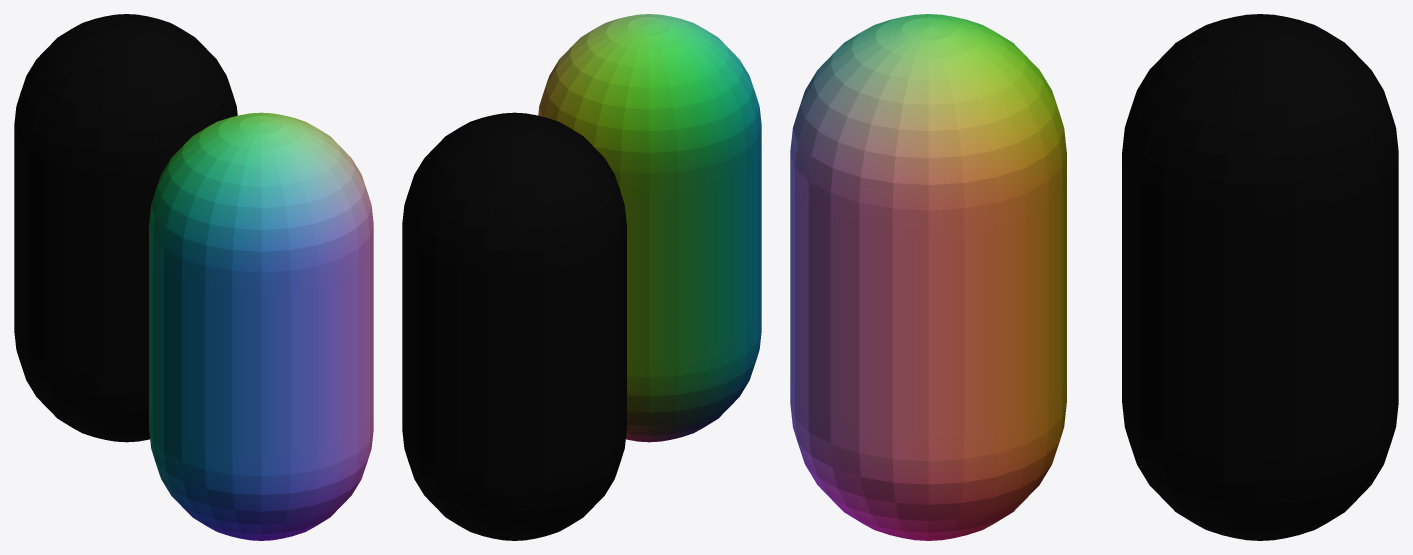
File: SM_Capsules.fbx
The picture shows the model from 3 angles, left to right: view 1: azimuth 30°, elevation 25°; view 2: azimuth 150°, elevation 25°; view 3: azimuth 270°, elevation 25°; orthographic projection. The views are drawn at different scales.
Parts seen in each view (by area): view 1: SM_Capsule2; view 2: SM_Capsule2; view 3: SM_Capsule2.
Boxes of the visible parts, <box> form: SM_Capsule2: <box>14,14,373,540</box>; SM_Capsule2: <box>402,14,761,540</box>; SM_Capsule2: <box>790,14,1398,540</box>.
Size of the model in its own units: 100 by 200 by 220.
